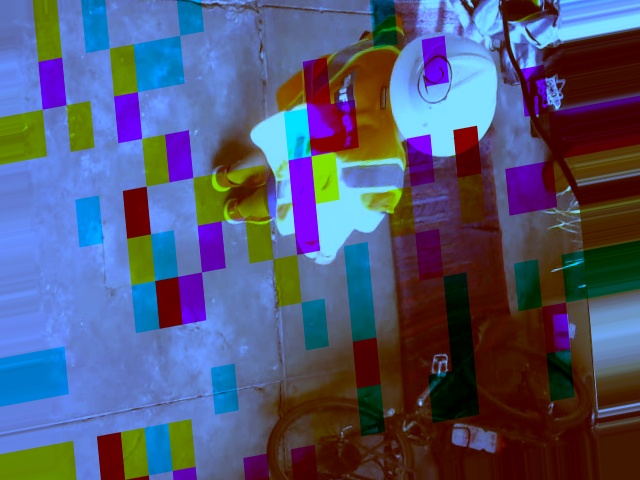two: (414, 52, 454, 107)
